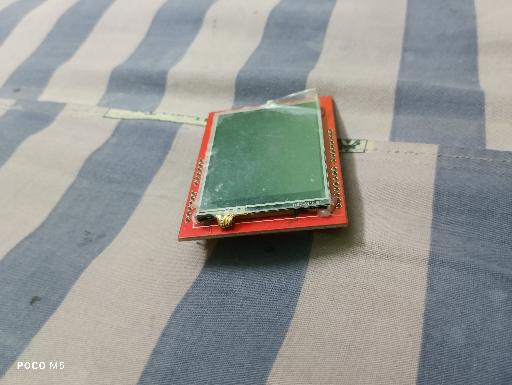Display: (177, 87, 349, 244)
